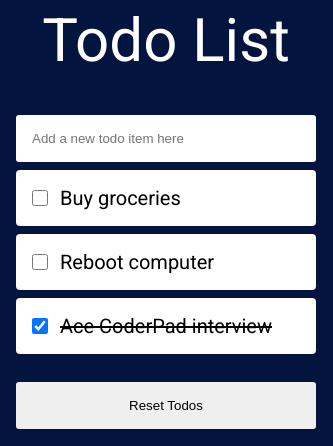
Toggling Todo Items test suite › Setting item to checked
Click the text "Ace CoderPad interview": {"x": 166, "y": 326} [60,314,272,338]
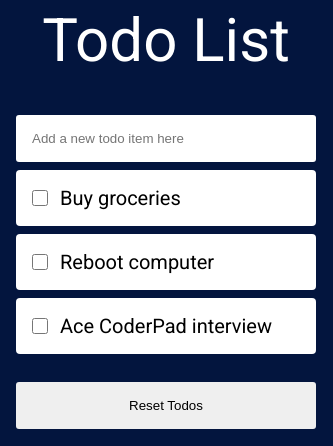
Click the text "Ace CoderPad interview": {"x": 166, "y": 326} [60,314,272,338]
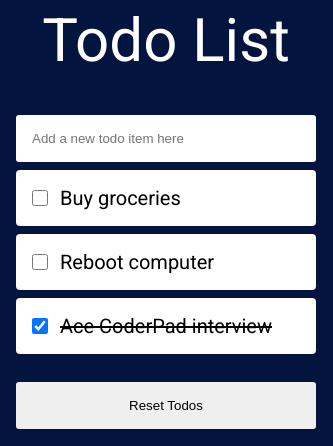
Expected: the checkbox labelled "Ace CoderPad interview" is checked, [32,318,48,334]
